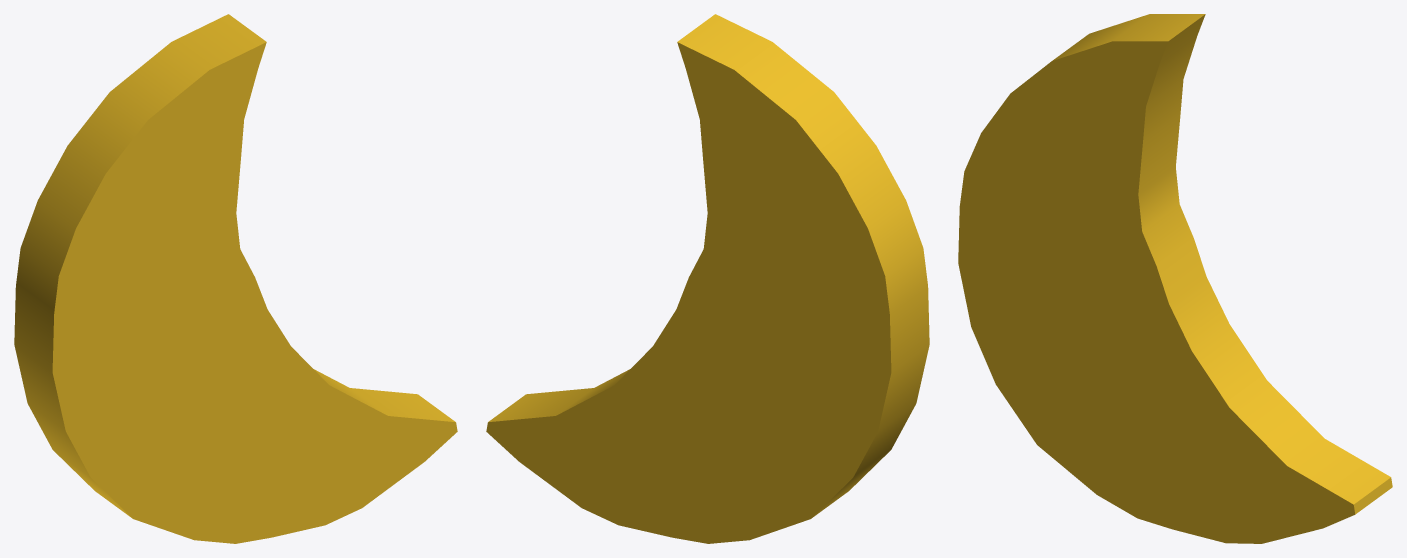
Rendered from Night.glb.
3 views of the same model, side by side, from view 1: azimuth 30°, elevation 25°; view 2: azimuth 150°, elevation 25°; view 3: azimuth 330°, elevation 25° (orthographic). The views are drawn at different scales.
Parts seen in each view (by area): view 1: Object_7; view 2: Object_7; view 3: Object_7.
Boxes of the visible parts, box(x1,y1,x2,y2) form: Object_7: box(14, 14, 457, 543); Object_7: box(486, 14, 929, 543); Object_7: box(958, 14, 1392, 543).
Bounding box in the file's own units: 0.0858 × 0.1008 × 0.014.
Materials: 1 (1 with a texture image).
